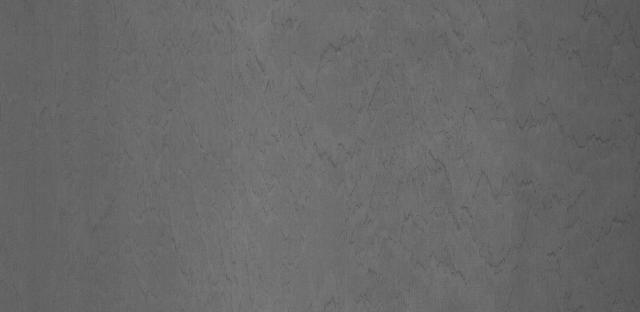silk_spot: (303, 130, 551, 255), (437, 12, 640, 102), (239, 19, 411, 118)
